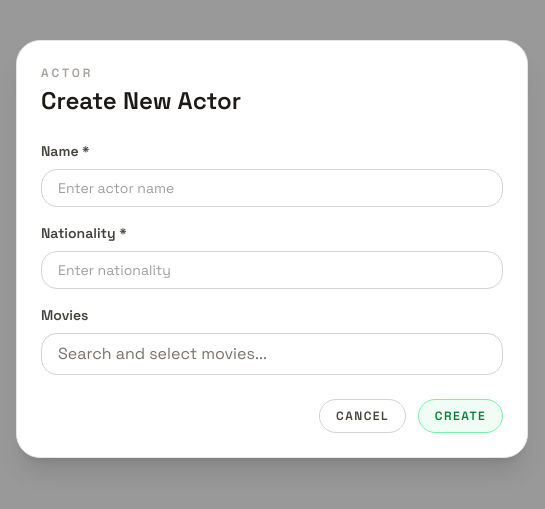
Test: ActorFormModal › validates required fields
Click the button "Create". click: point(460, 416)
box: [418, 399, 503, 433]
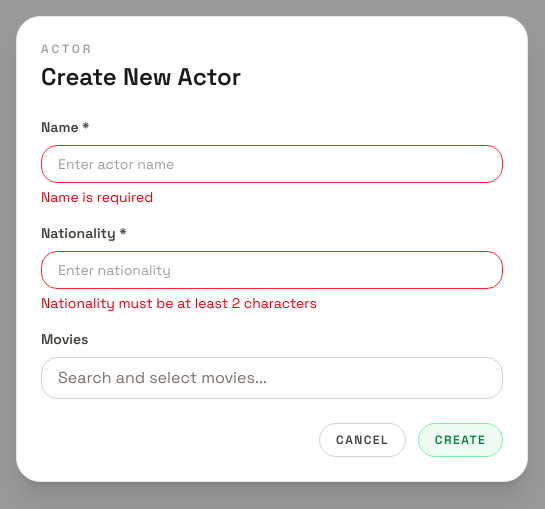
expect the text "Name is required" is shown: met, box [41, 188, 153, 206]
expect the text "Nationality must be at least 2 characters" is shown: met, box [41, 294, 317, 312]
